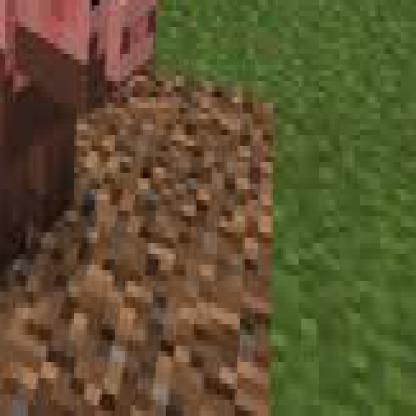minecraft-pigs: (0, 0, 184, 297)
